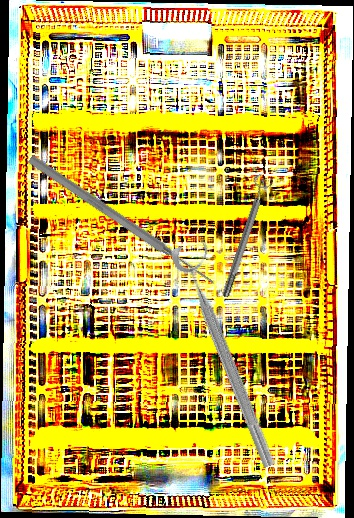Fixation Ring: (169, 236, 294, 471), (214, 172, 276, 300)
Pusher: (26, 153, 218, 289)
